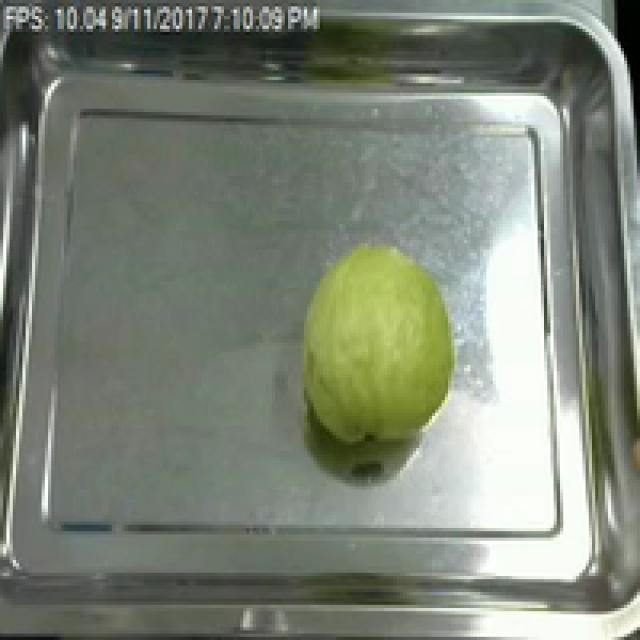Fruit: (291, 237, 467, 454)
